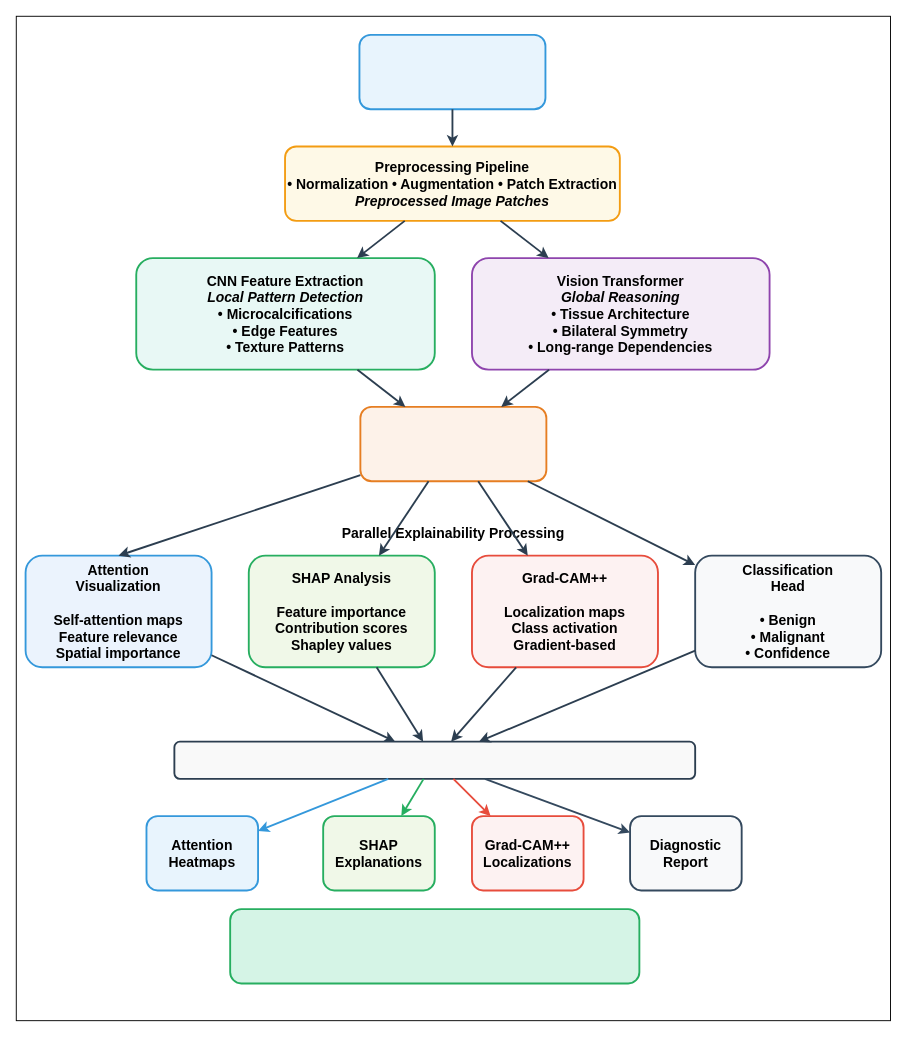
Some shapes in this 907 by 1037 pixel diagram are drawn without their labels. Each missing label, with the centre of its shape:
Feature Fusion Hybrid Representation CNN ⊕ ViT Features: (453,443)
Interpretable Clinical Outputs: (434,759)
Mammography Input Medical Image Data [H × W × C]: (452,71)
Performance Characteristics Sub-second Inference | High-throughput Ready: (434,946)
